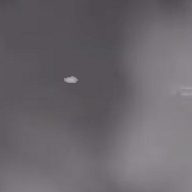Target: (64, 76, 78, 83)
